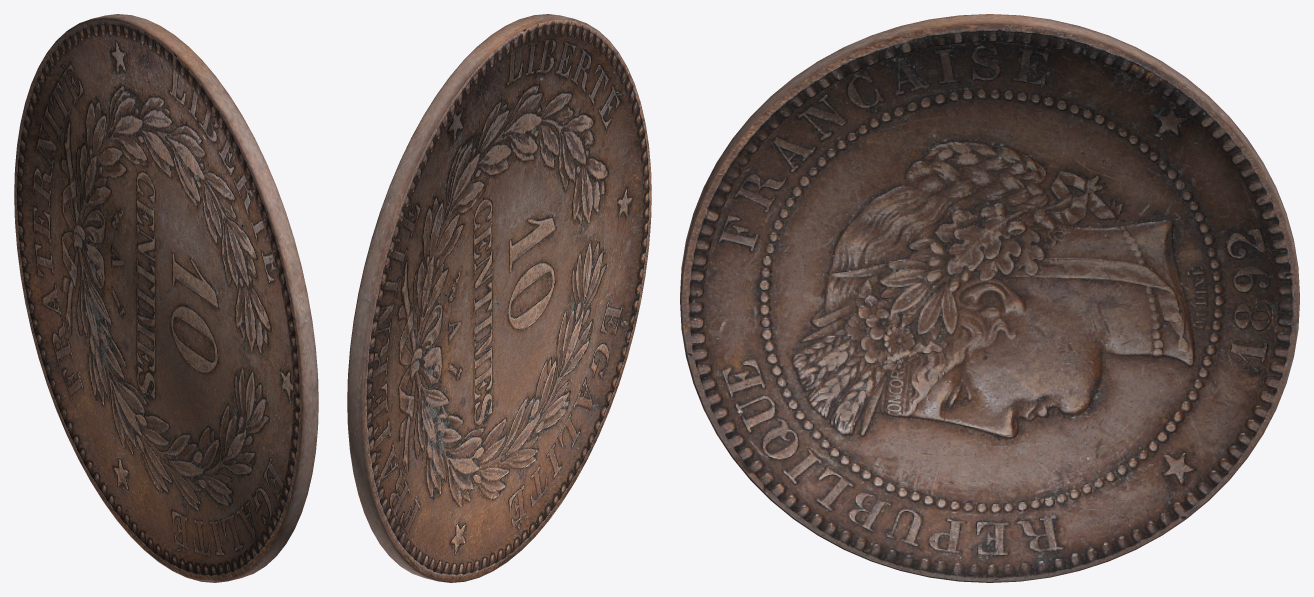
The model's file is 10_Santim.obj.
3 views of the same model, side by side, from view 1: azimuth 30°, elevation 25°; view 2: azimuth 150°, elevation 25°; view 3: azimuth 270°, elevation 25° (orthographic). The views are drawn at different scales.
Parts seen in each view (by area): view 1: 10_Santim; view 2: 10_Santim; view 3: 10_Santim.
Part boxes in pixels (x1,y1,x2,y2): 10_Santim: (14, 14, 318, 582); 10_Santim: (347, 14, 651, 582); 10_Santim: (680, 14, 1299, 582).
Size of the model in its own units: 0.002 by 0.06 by 0.06.
